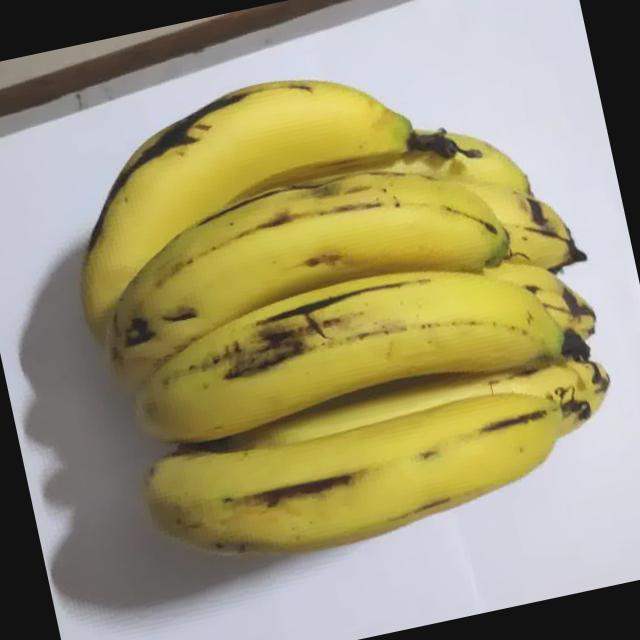banana_pacche: (21, 1, 640, 640)
